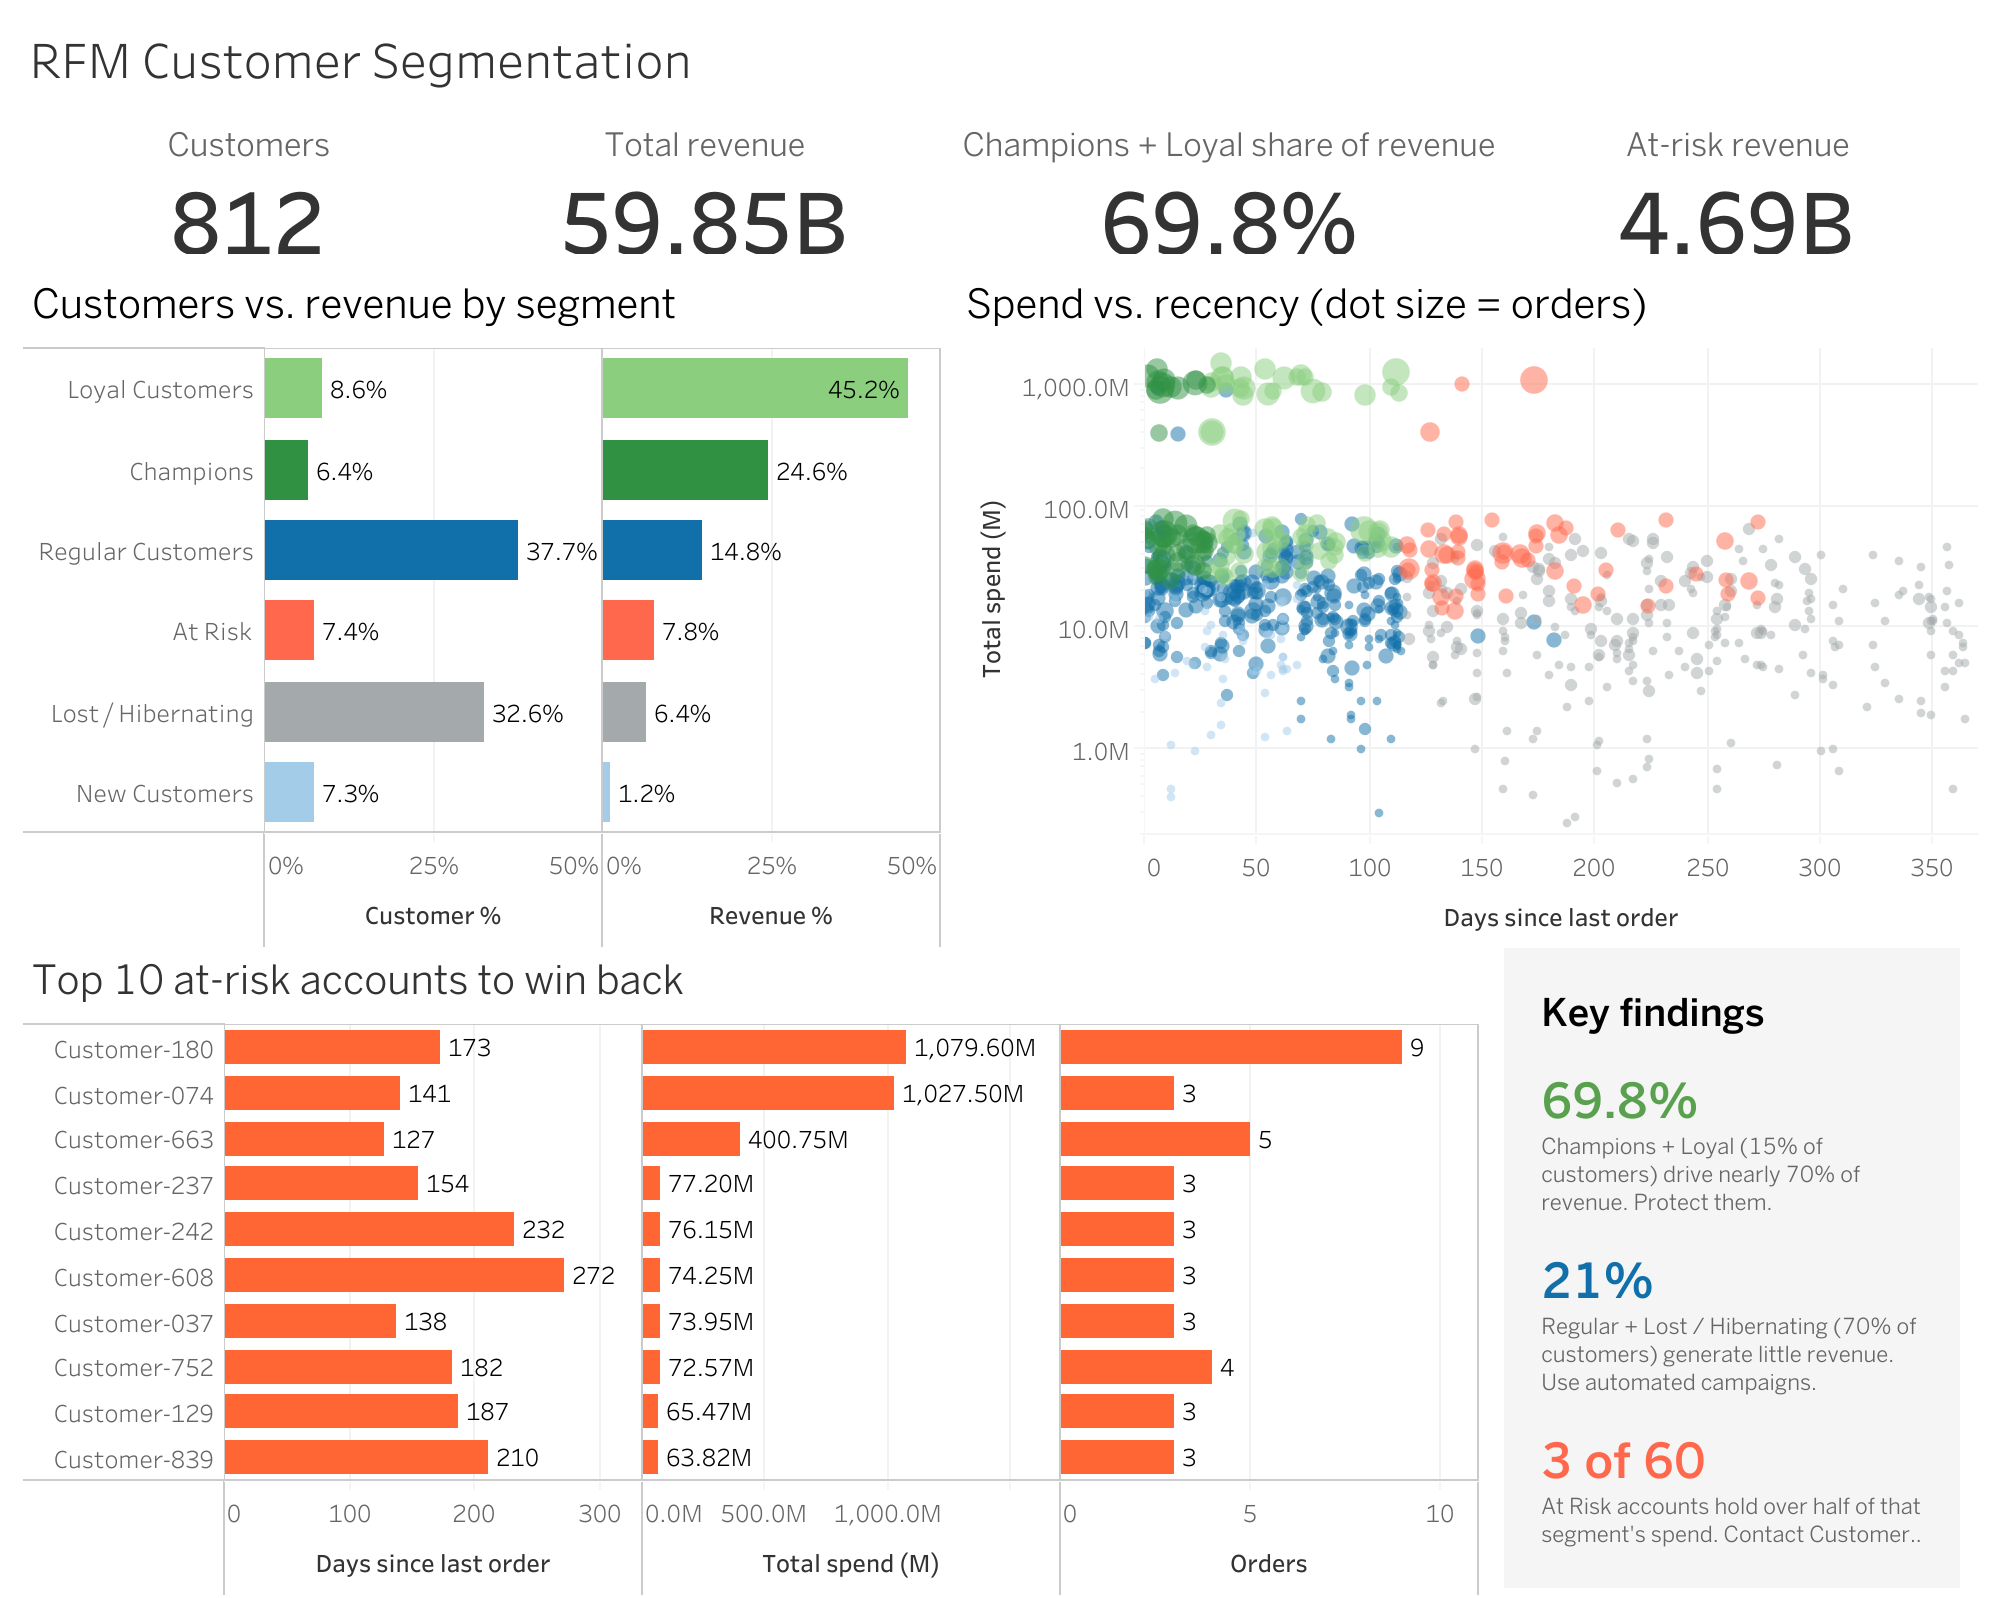

What the dashboard file says about the page in this screenshot:
{"tool":"tableau","page":{"name":"RFM Customer Segmentation","canvas":[1000,800],"ordinal":0},"visuals":[{"type":"title","box":[8,8,984,42]},{"type":"worksheet","title":"KPI Customers","mark":"Automatic","box":[12,51,225,80]},{"type":"worksheet","title":"KPI Revenue","mark":"Automatic","box":[237,51,231,80]},{"type":"worksheet","title":"KPI Top Tier","mark":"Automatic","box":[468,51,293,80]},{"type":"worksheet","title":"KPI At Risk","mark":"Automatic","box":[761,51,216,80]},{"type":"worksheet","title":"Segment share","mark":"Automatic","rows":["Customer_Segment"],"box":[8,128,467,350]},{"type":"worksheet","title":"Scatter","mark":"Circle","rows":["Monetary"],"cols":["Recency"],"box":[475,128,518,350]},{"type":"worksheet","title":"Top 10 at-risk accounts to win back","mark":"Automatic","rows":["customer_id"],"cols":["Recency","Monetary","Frequency"],"box":[8,466,736,336]},{"type":"text","box":[764,486,204,296]}]}

Visuals, with their boxes in screenshot pixels (x1, y1, x2, y2), scaled from the page's 1000x800 canvas onto the 1998x1598 screenshot:
title: [16,16,1982,100]
"KPI Customers" worksheet: [24,102,474,262]
"KPI Revenue" worksheet: [474,102,935,262]
"KPI Top Tier" worksheet: [935,102,1520,262]
"KPI At Risk" worksheet: [1520,102,1952,262]
"Segment share" worksheet: [16,256,949,955]
"Scatter" worksheet (Circle marks): [949,256,1984,955]
"Top 10 at-risk accounts to win back" worksheet: [16,931,1487,1597]
text: [1526,971,1934,1562]
